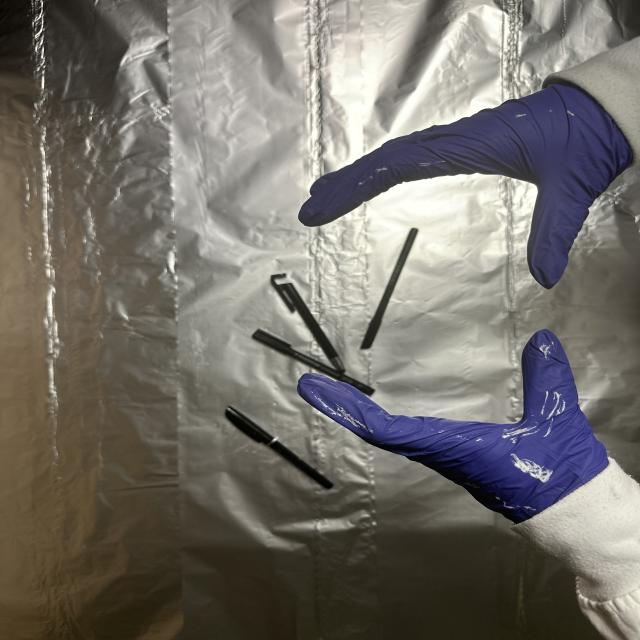gloves_contaminated: (299, 84, 633, 288), (299, 330, 608, 524)
